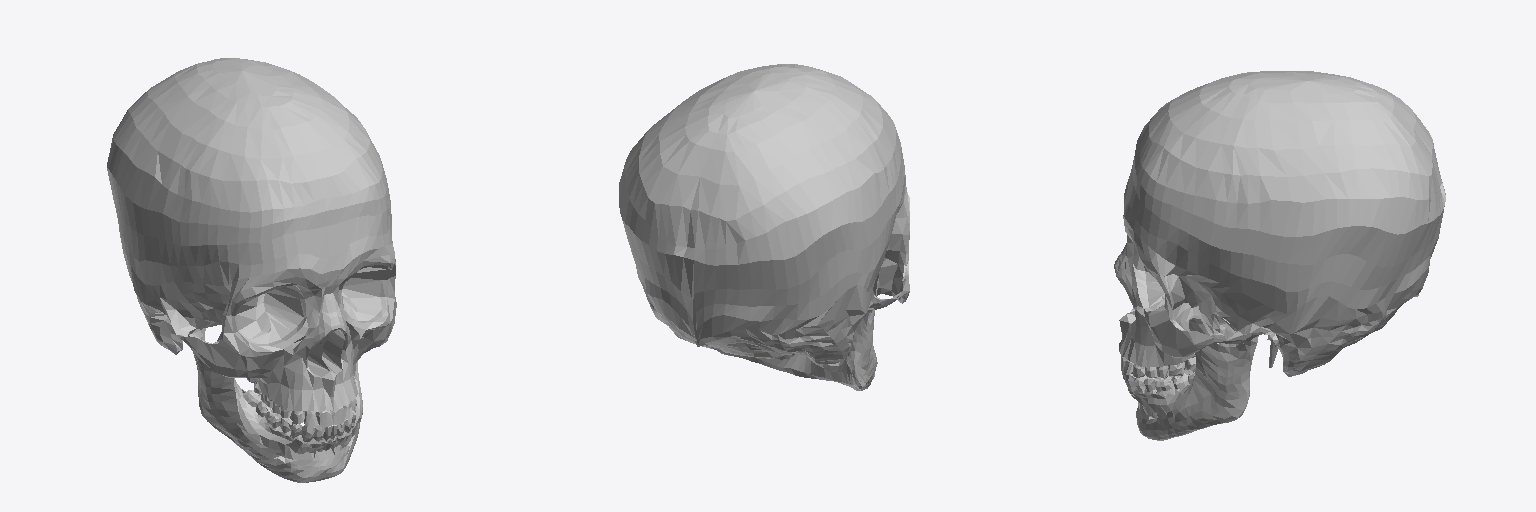
The model's file is skull.obj.
The picture shows the model from 3 angles: view 1: azimuth 30°, elevation 25°; view 2: azimuth 150°, elevation 25°; view 3: azimuth 270°, elevation 25°; orthographic projection.
Visible parts, largest first — view 1: polySurface1; view 2: polySurface1; view 3: polySurface1.
Part boxes in pixels (bbox=[...]): polySurface1: bbox=[107, 58, 396, 482]; polySurface1: bbox=[619, 64, 909, 390]; polySurface1: bbox=[1114, 71, 1445, 440].
Bounding box in the file's own units: 3.88 × 5.72 × 4.92.